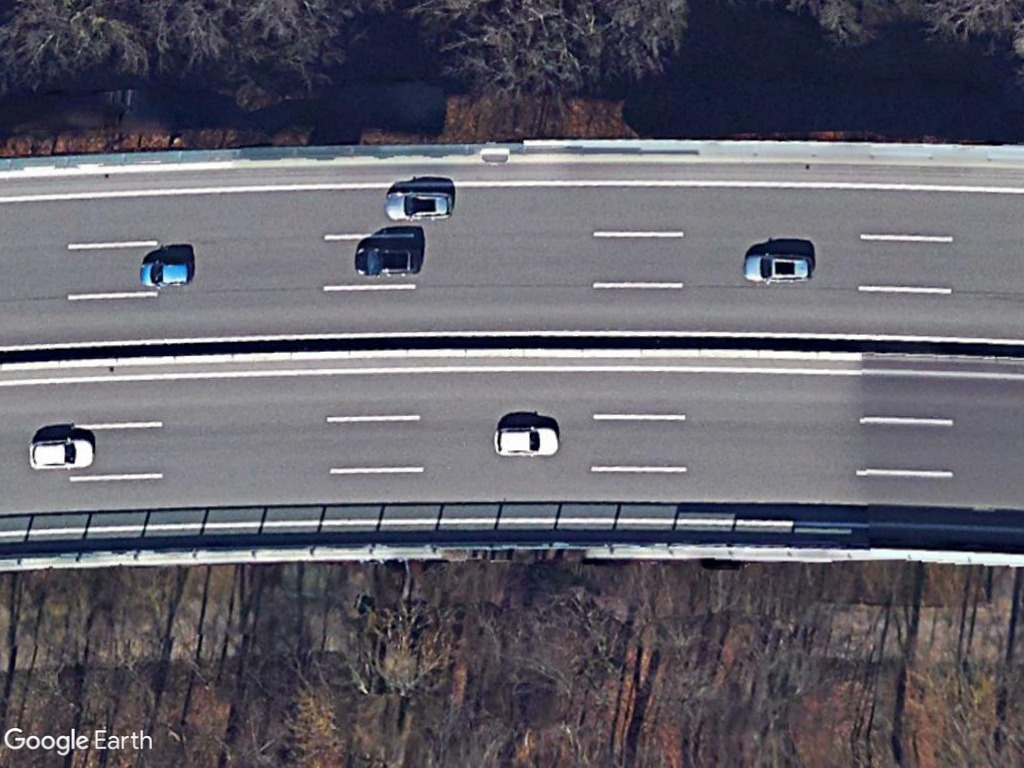car: (740, 250, 817, 286), (28, 434, 97, 474), (489, 424, 564, 459), (381, 190, 456, 224), (351, 243, 425, 277), (138, 261, 197, 288)
